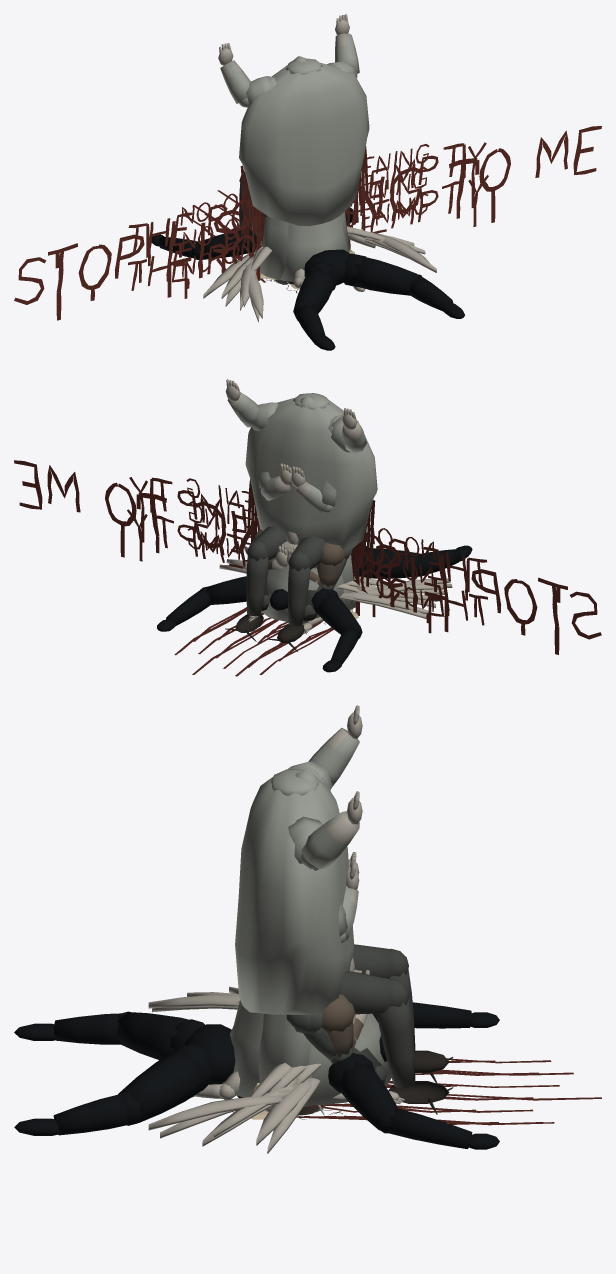
File: chapel-dressing.glb
3 views of the same model, one above another, from view 1: azimuth 30°, elevation 25°; view 2: azimuth 150°, elevation 25°; view 3: azimuth 270°, elevation 25° (orthographic). The views are drawn at different scales.
Visible parts, largest first — view 1: chapel_presence_celebrant, chapel_presence_clinging, chapel_writing_stop, chapel_writing_empty, chapel_presence_cherub, chapel_writing_overwritten, chapel_presence_acolyte, chapel_wall_hand_traces; view 2: chapel_presence_celebrant, chapel_writing_stop, chapel_presence_clinging, chapel_presence_seated_lower, chapel_writing_empty, chapel_presence_acolyte, chapel_presence_cherub, chapel_writing_overwritten, chapel_floor_drag, chapel_presence_bowed_upper, chapel_wall_hand_traces, chapel_presence_kneeling_lower; view 3: chapel_presence_celebrant, chapel_presence_clinging, chapel_presence_seated_lower, chapel_presence_cherub, chapel_presence_acolyte, chapel_floor_drag, chapel_presence_bowed_upper, chapel_presence_seated_upper.
Boxes of the visible parts, <box> form: chapel_presence_celebrant: <box>218,14,369,279</box>; chapel_presence_clinging: <box>151,207,464,350</box>; chapel_writing_stop: <box>14,126,601,320</box>; chapel_writing_empty: <box>128,142,488,298</box>; chapel_presence_cherub: <box>203,226,436,322</box>; chapel_writing_overwritten: <box>180,144,429,280</box>; chapel_presence_acolyte: <box>261,214,348,282</box>; chapel_wall_hand_traces: <box>240,146,368,252</box>; chapel_presence_celebrant: <box>225,379,377,610</box>; chapel_writing_stop: <box>14,460,601,654</box>; chapel_presence_clinging: <box>157,545,472,672</box>; chapel_presence_seated_lower: <box>225,526,325,651</box>; chapel_writing_empty: <box>127,477,487,633</box>; chapel_presence_acolyte: <box>259,463,351,623</box>; chapel_presence_cherub: <box>219,546,452,634</box>; chapel_writing_overwritten: <box>186,478,435,615</box>; chapel_floor_drag: <box>174,607,355,676</box>; chapel_presence_bowed_upper: <box>253,529,345,587</box>; chapel_wall_hand_traces: <box>247,479,375,586</box>; chapel_presence_kneeling_lower: <box>261,581,321,621</box>; chapel_presence_celebrant: <box>235,705,362,1114</box>; chapel_presence_clinging: <box>14,1002,499,1149</box>; chapel_presence_seated_lower: <box>340,944,453,1114</box>; chapel_presence_cherub: <box>148,986,404,1153</box>; chapel_presence_acolyte: <box>222,852,391,1104</box>; chapel_floor_drag: <box>296,1058,601,1125</box>; chapel_presence_bowed_upper: <box>299,958,369,1114</box>; chapel_presence_seated_upper: <box>286,970,361,1115</box>.
Size of the model in its own units: 4.54 by 1.77 by 2.62.
